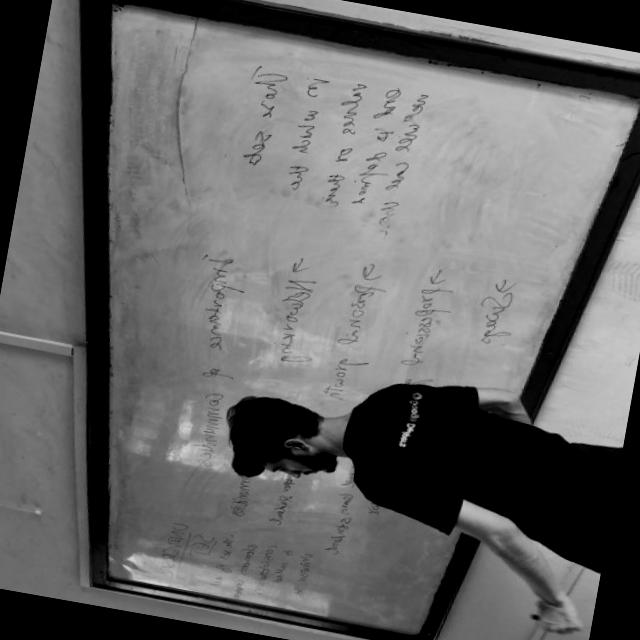Instructor: (192, 349, 616, 557)
White-board: (100, 0, 640, 640)
